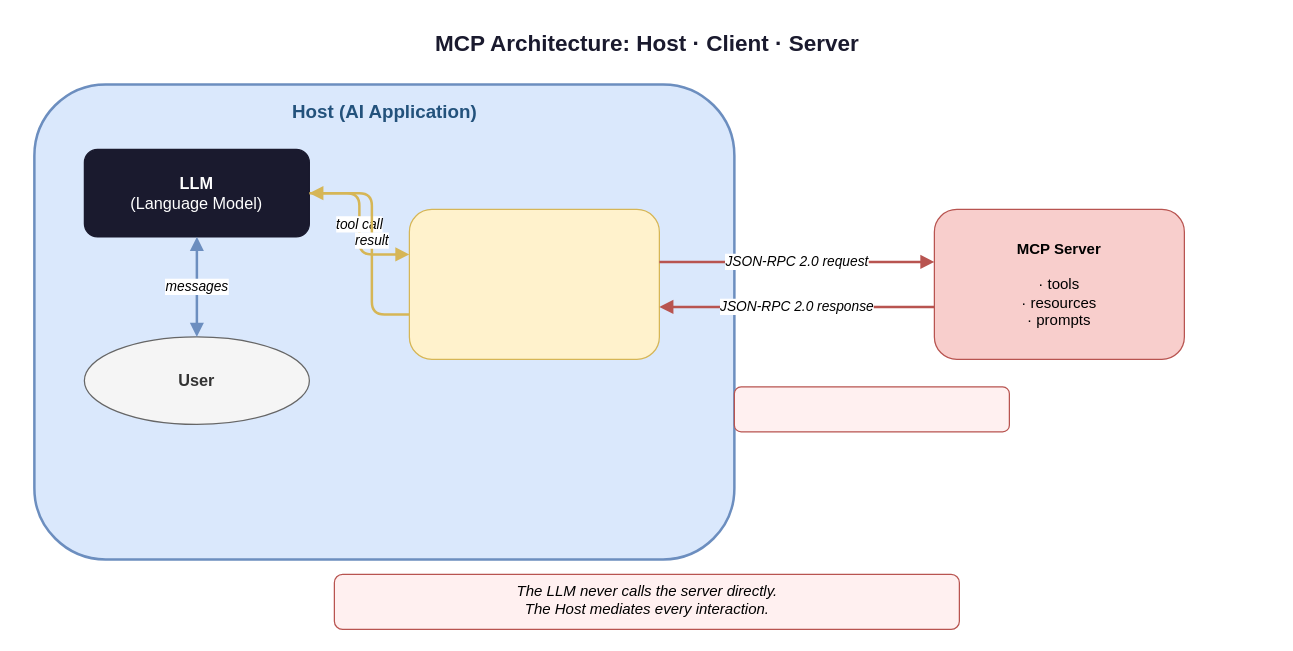
Image size: 1293x651. Some labels were removed from this diagram. Each missing label, with the centre of its shape:
MCP Client · session lifecycle · capability negotiation · message routing: point (533, 283)
Transport: stdio | HTTP/SSE: point (871, 409)
